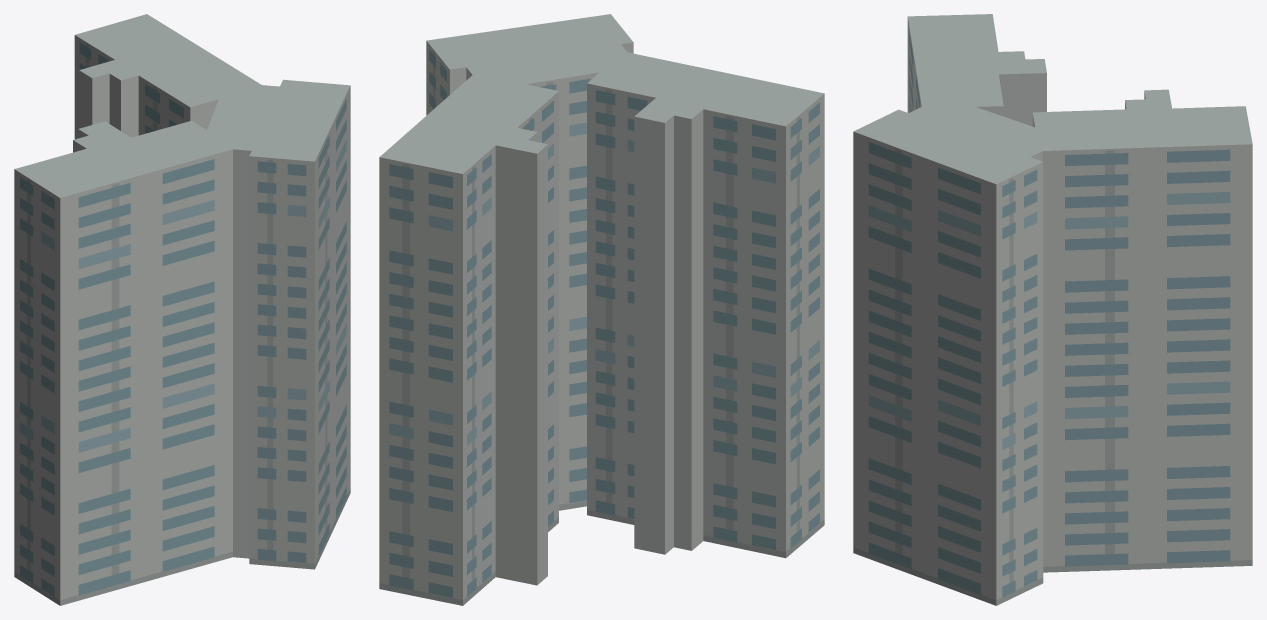
File: residential-1d9c1044-4fa6-48dc-b9d7-a52db38181d3.glb
3 renders of one model, left to right at view 1: azimuth 30°, elevation 25°; view 2: azimuth 150°, elevation 25°; view 3: azimuth 270°, elevation 25°, orthographic. The views are drawn at different scales.
Parts seen in each view (by area): view 1: residential-1d9c1044-4fa6-48dc-b9d7-a52db38181d3.tmp; view 2: residential-1d9c1044-4fa6-48dc-b9d7-a52db38181d3.tmp; view 3: residential-1d9c1044-4fa6-48dc-b9d7-a52db38181d3.tmp.
Part boxes in pixels (<box>): residential-1d9c1044-4fa6-48dc-b9d7-a52db38181d3.tmp: <box>14,14,350,605</box>; residential-1d9c1044-4fa6-48dc-b9d7-a52db38181d3.tmp: <box>379,14,824,605</box>; residential-1d9c1044-4fa6-48dc-b9d7-a52db38181d3.tmp: <box>853,14,1252,605</box>.
Bounding box in the file's own units: 49.42 × 57 × 48.96.
